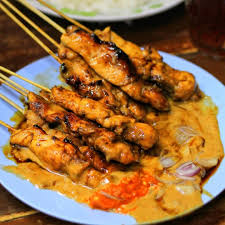sate: (14, 11, 225, 218)
